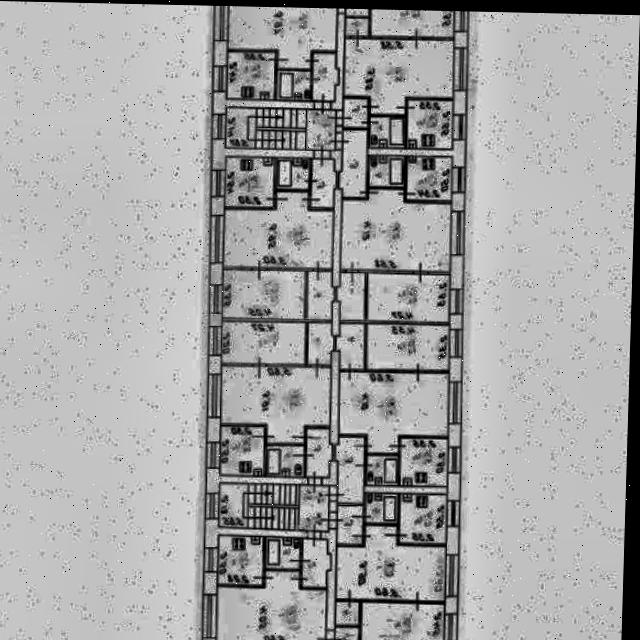room: (341, 187, 451, 271), (338, 370, 448, 452), (223, 189, 333, 268), (335, 523, 446, 600), (220, 365, 331, 442), (344, 37, 454, 114), (216, 569, 325, 640), (228, 5, 337, 69), (218, 482, 328, 530), (225, 106, 336, 148), (222, 268, 306, 318), (366, 271, 450, 321), (365, 322, 449, 369), (220, 320, 305, 363), (360, 601, 443, 640), (398, 492, 446, 543), (225, 156, 274, 205), (406, 98, 454, 147), (370, 8, 454, 36), (227, 51, 275, 98), (399, 437, 447, 484), (217, 535, 262, 584), (220, 425, 264, 475), (334, 435, 364, 502), (407, 155, 452, 199), (339, 128, 367, 196), (301, 538, 330, 586), (336, 271, 365, 319), (335, 322, 364, 368), (312, 52, 339, 100), (307, 270, 334, 318), (306, 427, 332, 476), (265, 443, 304, 475), (311, 158, 337, 206), (368, 154, 405, 185), (307, 321, 334, 363), (264, 536, 299, 568), (370, 115, 405, 146), (336, 504, 363, 543), (276, 157, 309, 188), (364, 492, 397, 522), (277, 69, 310, 98), (366, 454, 397, 484), (343, 97, 368, 126), (335, 600, 358, 623), (345, 16, 369, 35), (334, 626, 358, 640), (346, 8, 369, 15)
